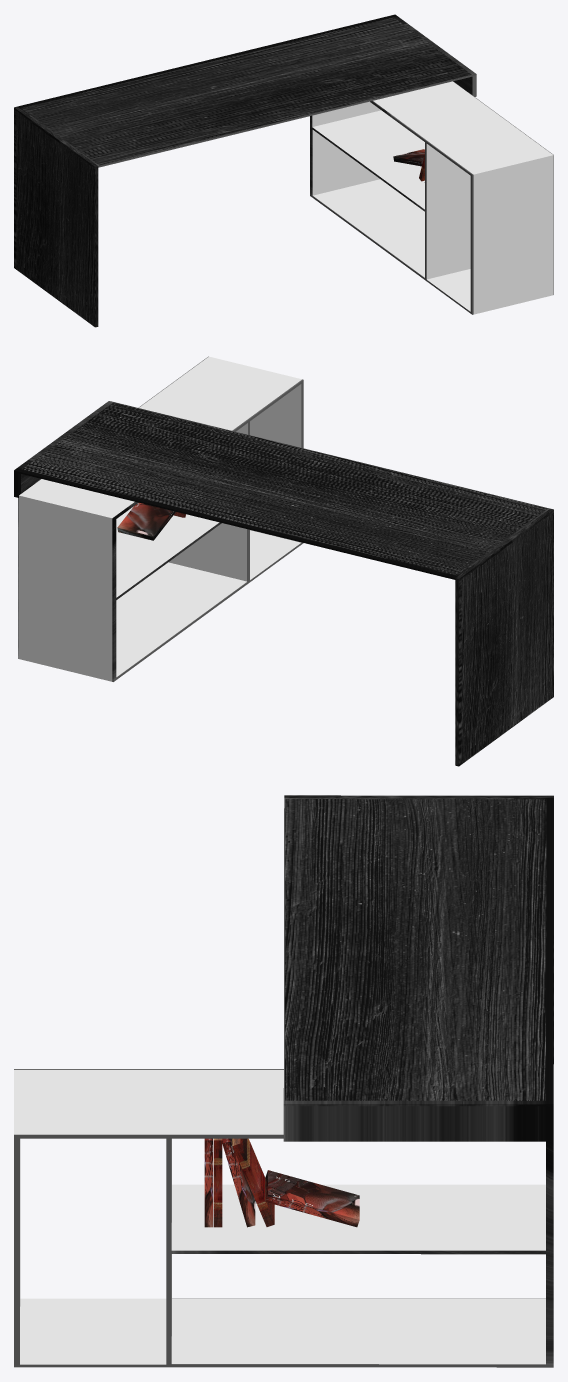
The model's file is mueble2.glb.
The picture shows the model from 3 angles, top to bottom: view 1: azimuth 30°, elevation 25°; view 2: azimuth 150°, elevation 25°; view 3: azimuth 270°, elevation 25°; orthographic projection. The views are drawn at different scales.
Parts seen in each view (by area): view 1: Escritorio_WhiteWoodTexture_0, Escritorio_WhiteWoodTexture_0.001; view 2: Escritorio_WhiteWoodTexture_0, Escritorio_WhiteWoodTexture_0.001, Escritorio_WhiteWoodTexture_0.003; view 3: Escritorio_WhiteWoodTexture_0, Escritorio_WhiteWoodTexture_0.001, Escritorio_WhiteWoodTexture_0.003, Escritorio_WhiteWoodTexture_0.002.
Part boxes in pixels (left/top/right/bottom): Escritorio_WhiteWoodTexture_0: left=14, top=14, right=553, bottom=327; Escritorio_WhiteWoodTexture_0.001: left=312, top=81, right=553, bottom=314; Escritorio_WhiteWoodTexture_0: left=14, top=356, right=553, bottom=766; Escritorio_WhiteWoodTexture_0.001: left=19, top=356, right=301, bottom=681; Escritorio_WhiteWoodTexture_0.003: left=117, top=503, right=175, bottom=540; Escritorio_WhiteWoodTexture_0: left=14, top=795, right=553, bottom=1367; Escritorio_WhiteWoodTexture_0.001: left=14, top=1070, right=545, bottom=1364; Escritorio_WhiteWoodTexture_0.003: left=204, top=1138, right=359, bottom=1227; Escritorio_WhiteWoodTexture_0.002: left=213, top=1138, right=274, bottom=1227.
Bounding box in the file's own units: 10.52 × 4.24 × 7.78.
4 materials, 3 textured.
